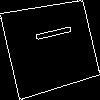I: (25, 22, 73, 46)
